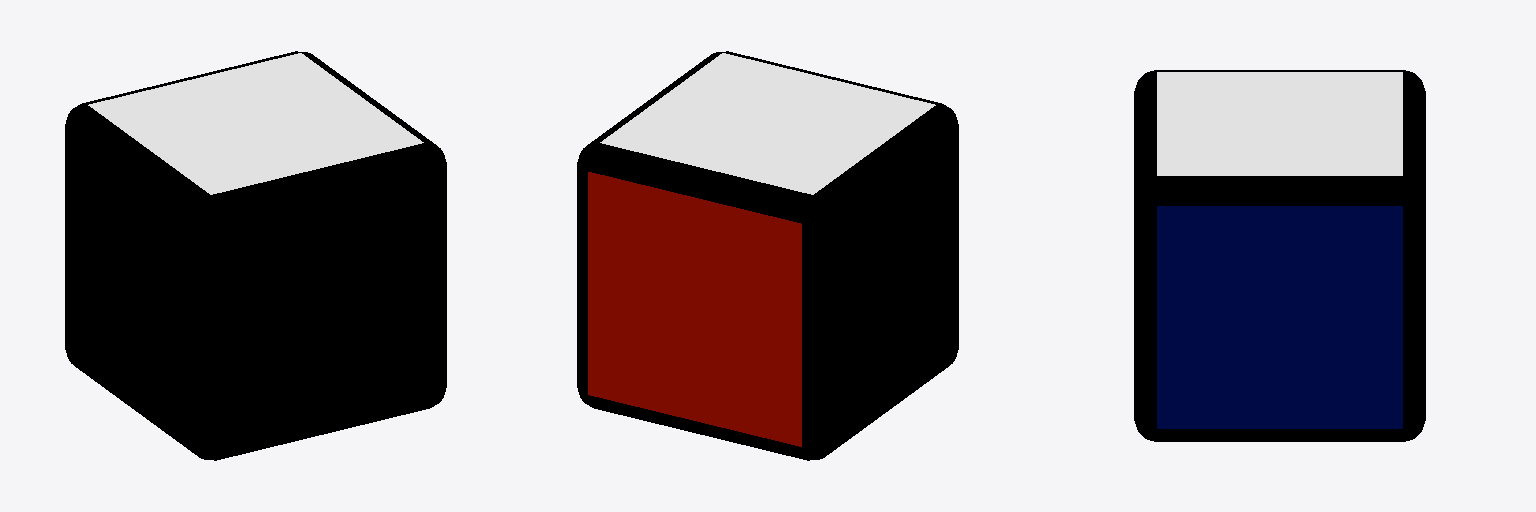
The model's file is piece_010.obj.
3 views of the same model, side by side, from view 1: azimuth 30°, elevation 25°; view 2: azimuth 150°, elevation 25°; view 3: azimuth 270°, elevation 25° (orthographic).
Parts seen in each view (by area): view 1: Cube.009_Cube.001; view 2: Cube.009_Cube.001; view 3: Cube.009_Cube.001.
Boxes of the visible parts, <box> form: Cube.009_Cube.001: <box>65,51,446,460</box>; Cube.009_Cube.001: <box>577,51,958,460</box>; Cube.009_Cube.001: <box>1134,70,1425,441</box>.
Bounding box in the file's own units: 2 × 2 × 2.